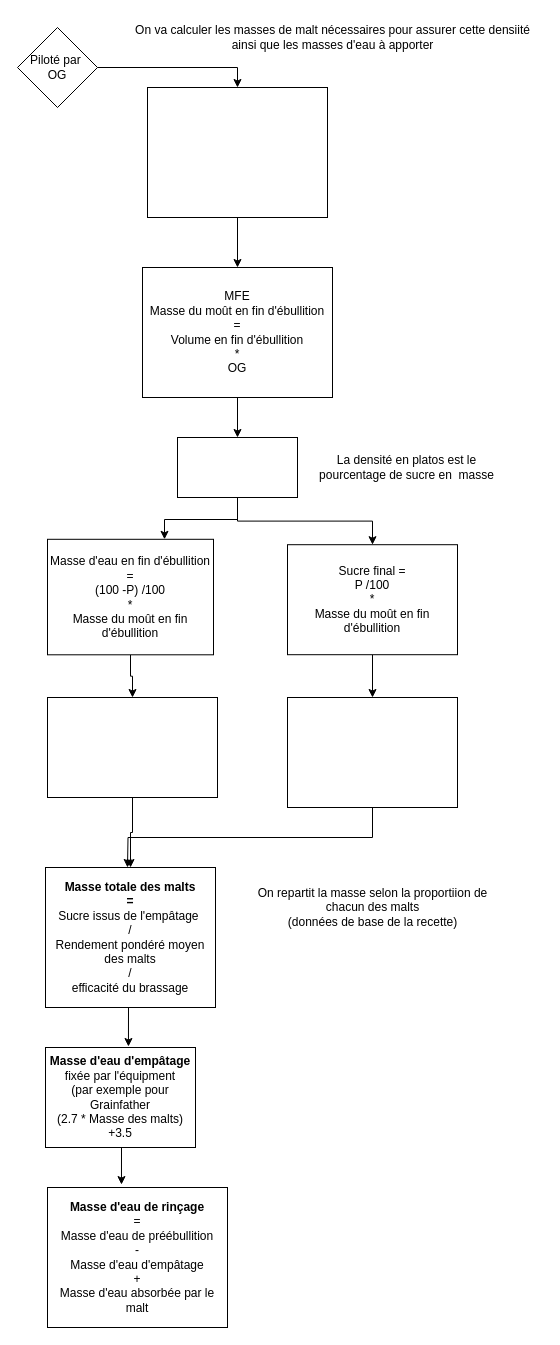
The diagram is 560 pixels wide and 1345 high, and some of its shapes have lost their labels. Here are the shapes that lost their labels. From the top down, the centre of each, then its label:
(237,152): Voume fin d'ébullition = (volume fermenteur + rétention de la bouilloire)
(237,467): Conversion og en platos OG -> P
(132,747): Masse d'eau de préébullition = Masse d'eau en fin d'ébullition + évaporation
(372,752): Sucre issus de l'empâtage = sucre final - sucre apporté à l'ébullition
